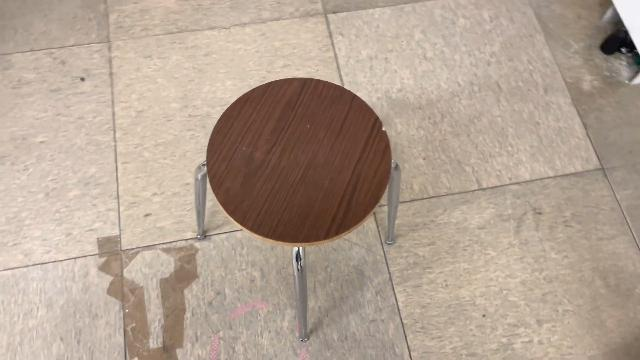Stool: (188, 72, 404, 350)
